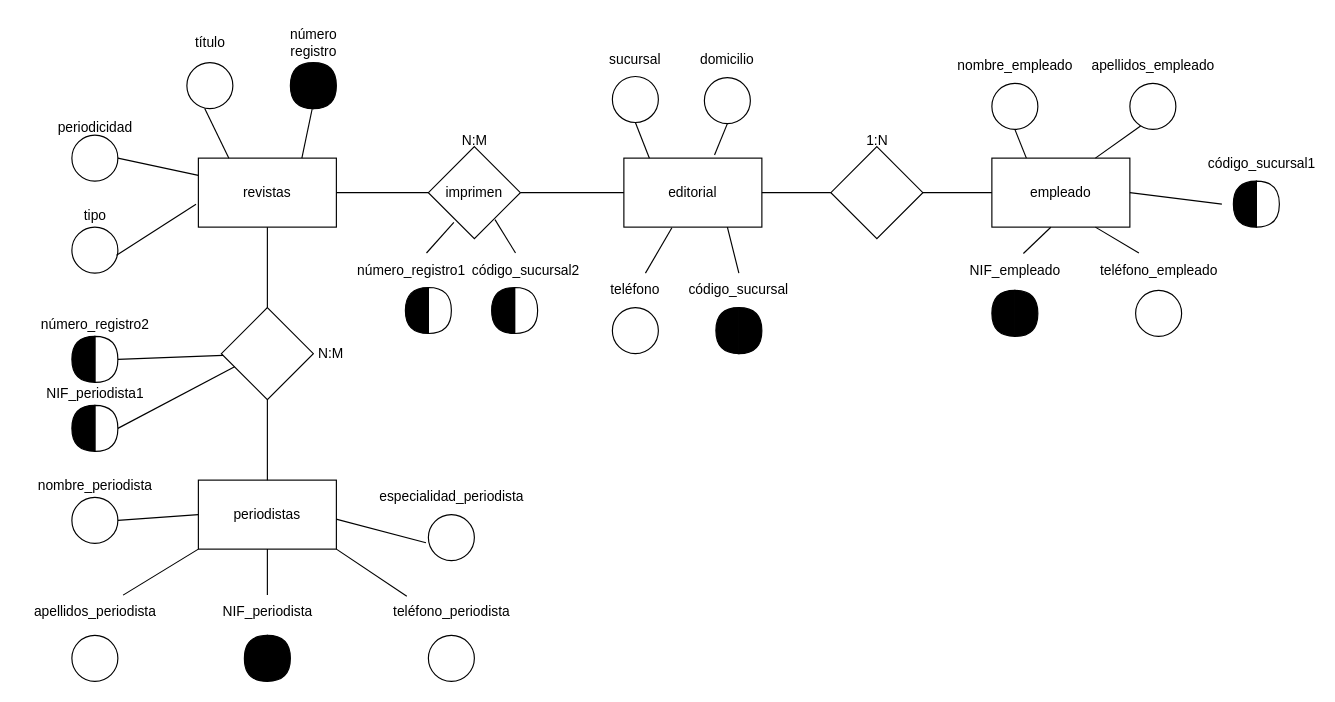
Some shapes in this 1335 by 702 pixel diagram are drawn without their labels. Each missing label, with the centre of its shape:
"escriben" belongs at [266,353].
"trabajan" belongs at [876,192].
